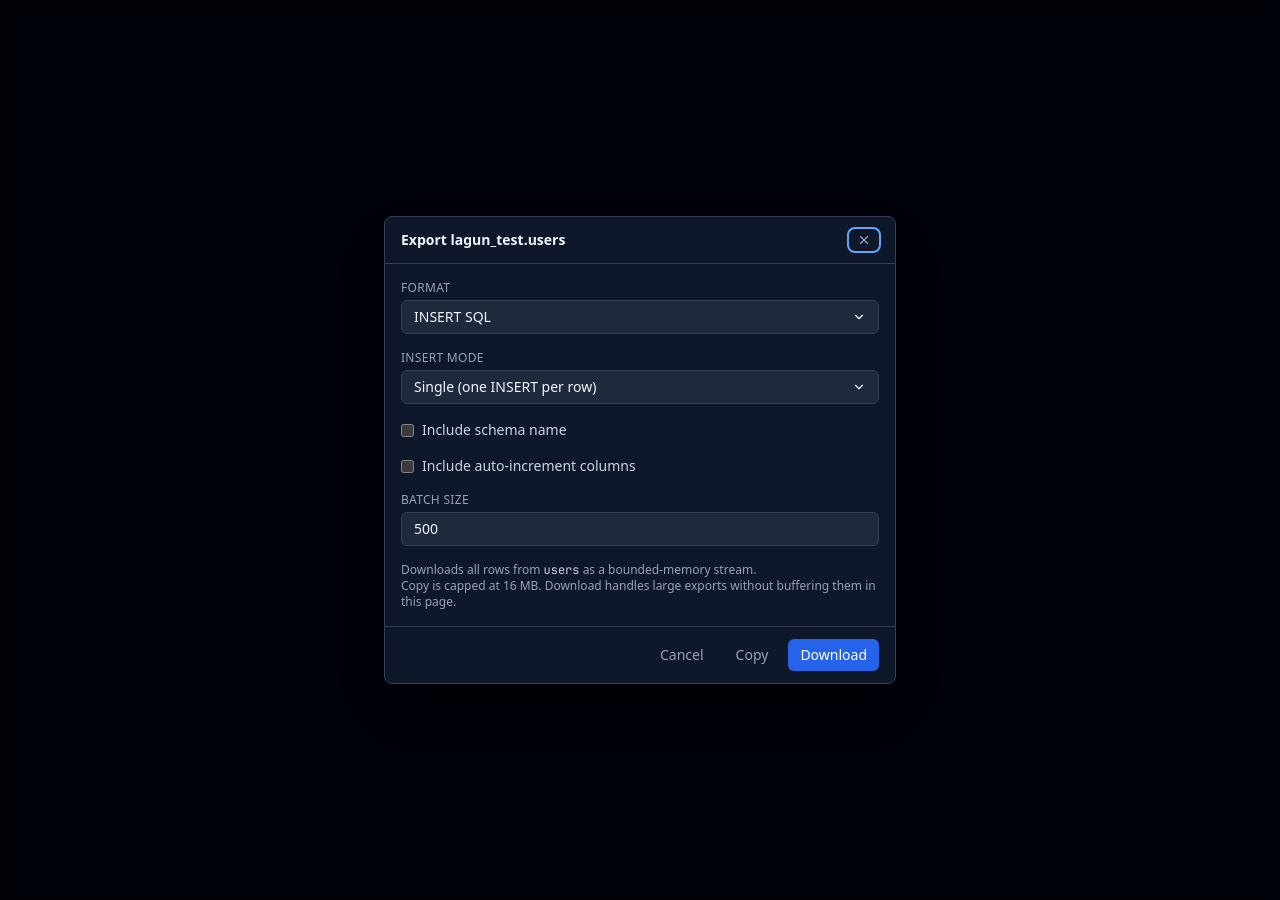
ExportDialog copy stream guard › surfaces the message from a mid-stream FAILED marker
Click the button "Copy". click: (752, 655)
box: [724,639,780,671]
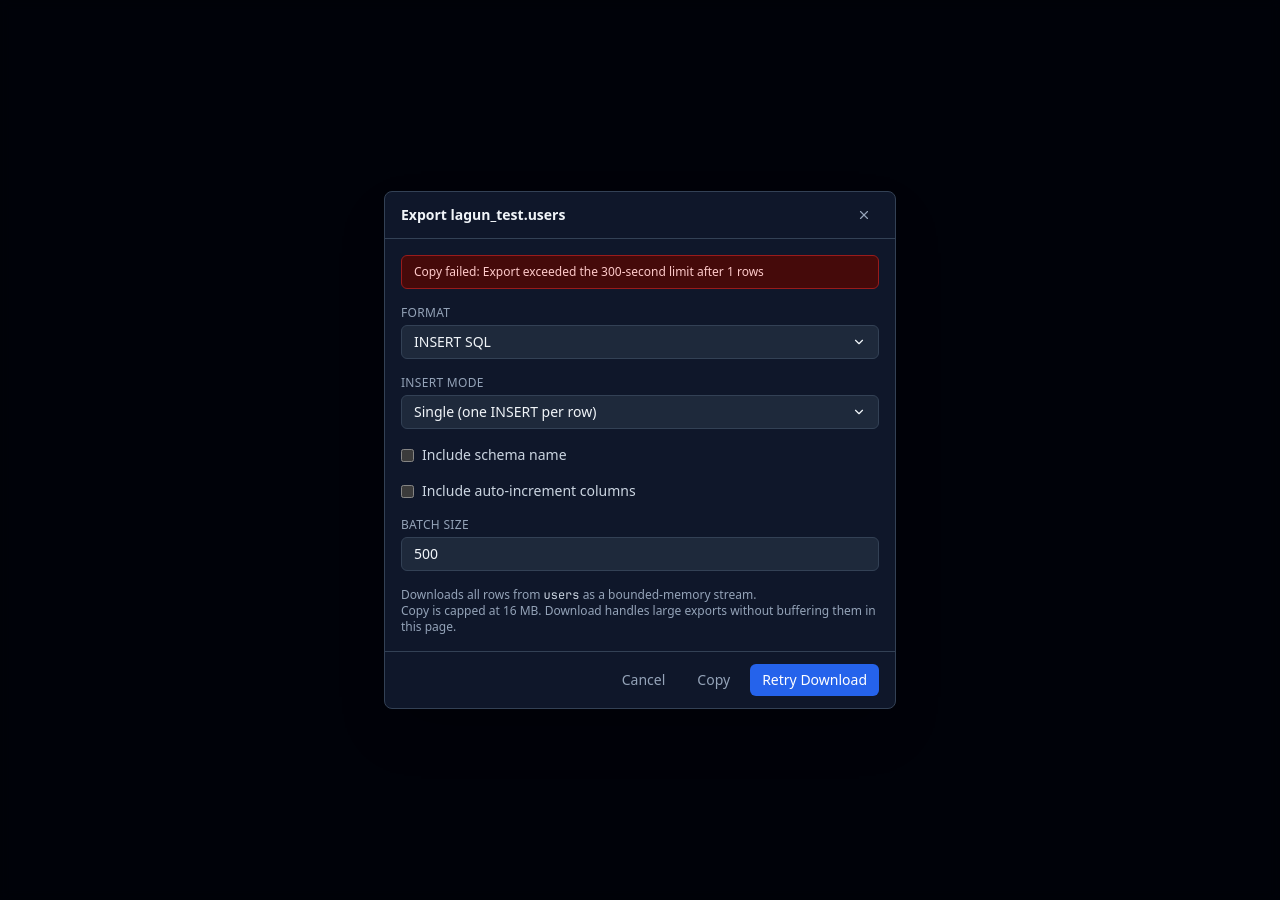
Expected: the message shows "Export exceeded the 300-second limit after 1 rows", [414,263,764,280]
